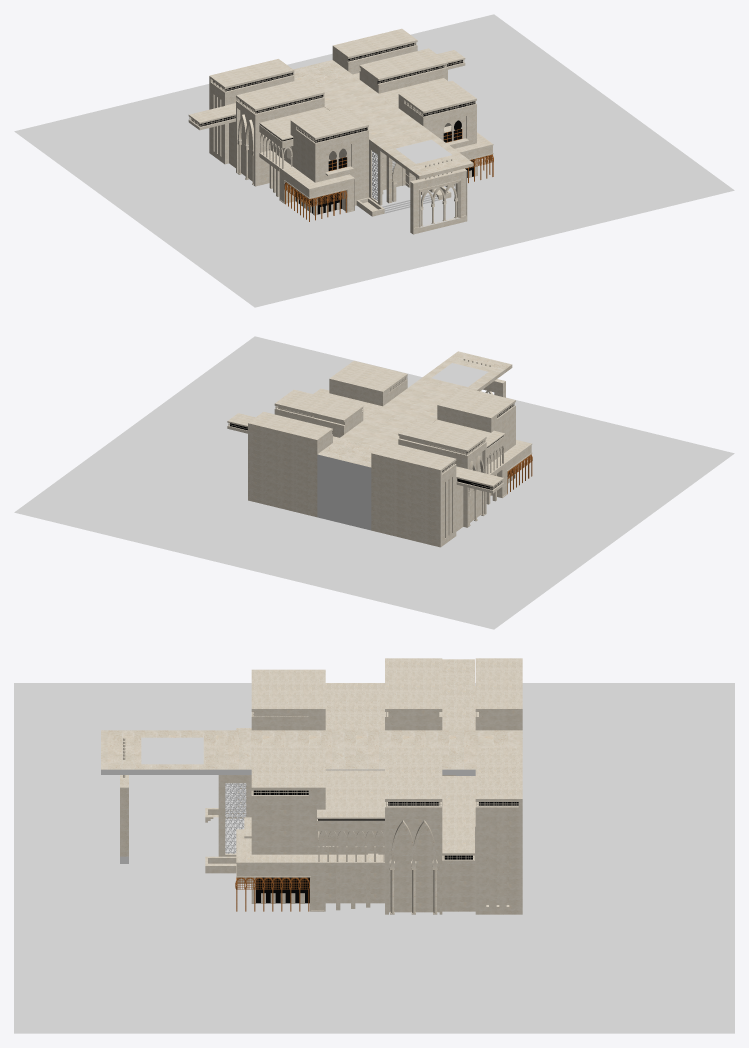
3 renders of one model, top to bottom at view 1: azimuth 30°, elevation 25°; view 2: azimuth 150°, elevation 25°; view 3: azimuth 270°, elevation 25°, orthographic. The views are drawn at different scales.
Parts seen in each view (by area): view 1: _(Loose Entity), _C-Component#6 (Loose Mesh).001, _C-Component#6 (Loose Mesh), _C-Component#15 (Loose Mesh), C-Component#7, C-Component#7.001; view 2: _(Loose Entity), _C-Component#6 (Loose Mesh).001, _C-Component#6 (Loose Mesh); view 3: _(Loose Entity), _C-Component#6 (Loose Mesh), _C-Component#6 (Loose Mesh).001, _C-Component#15 (Loose Mesh).
Boxes of the visible parts, box(x1,y1,x2,y2) form: _(Loose Entity): box(14, 14, 734, 307); _C-Component#6 (Loose Mesh).001: box(188, 59, 386, 216); _C-Component#6 (Loose Mesh): box(332, 28, 493, 200); _C-Component#15 (Loose Mesh): box(410, 168, 467, 229); C-Component#7: box(440, 116, 465, 142); C-Component#7.001: box(325, 144, 350, 172); _(Loose Entity): box(14, 336, 734, 629); _C-Component#6 (Loose Mesh).001: box(371, 387, 532, 547); _C-Component#6 (Loose Mesh): box(227, 360, 407, 517); _(Loose Entity): box(14, 683, 734, 1033); _C-Component#6 (Loose Mesh): box(205, 748, 522, 914); _C-Component#6 (Loose Mesh).001: box(205, 658, 522, 822); _C-Component#15 (Loose Mesh): box(120, 775, 128, 856).
Size of the model in its own units: 92.17 by 14.18 by 80.09.
5 materials, 2 textured.
